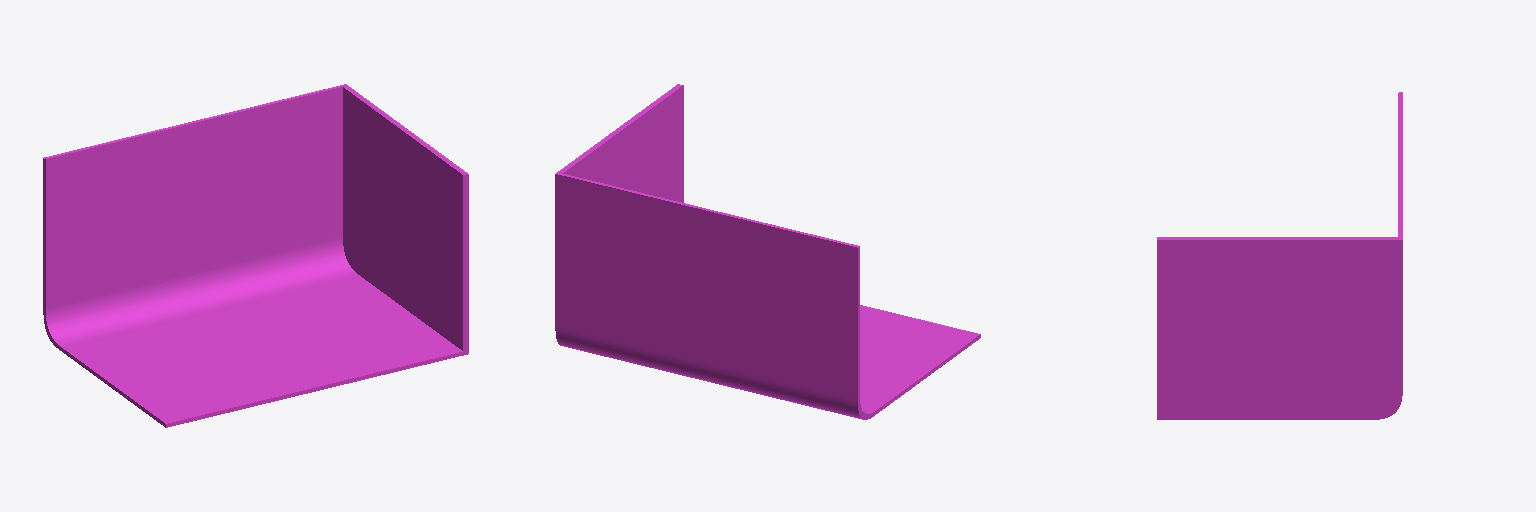
Rendered from ground.obj.
3 views of the same model, side by side, from view 1: azimuth 30°, elevation 25°; view 2: azimuth 150°, elevation 25°; view 3: azimuth 270°, elevation 25° (orthographic).
Visible parts, largest first — view 1: Ground; view 2: Ground; view 3: Ground.
Part boxes in pixels (x1,y1,x2,y2): Ground: (43,84,468,427); Ground: (555,84,980,419); Ground: (1157,92,1402,419).
Size of the model in its own units: 3.89 by 2.22 by 2.74.